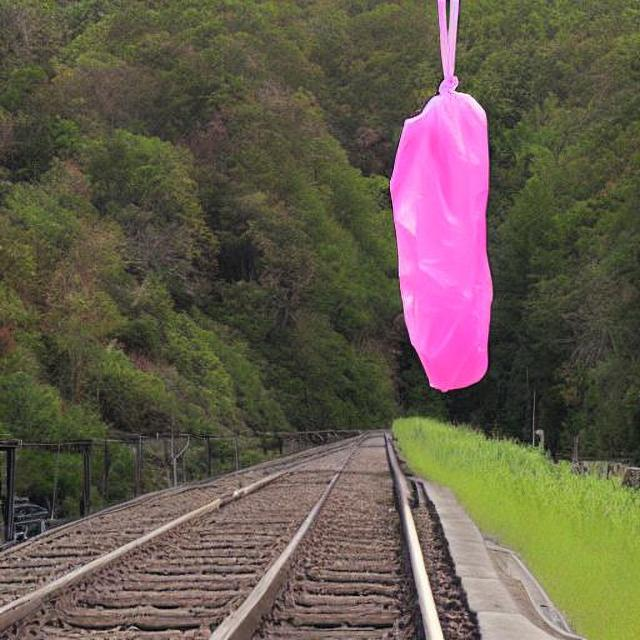plastic bag: (388, 79, 498, 394)
